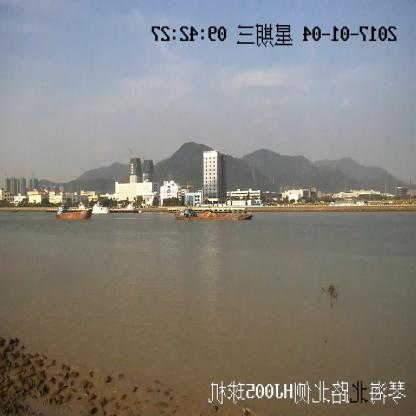Bulk Carrier: (57, 206, 91, 220)
